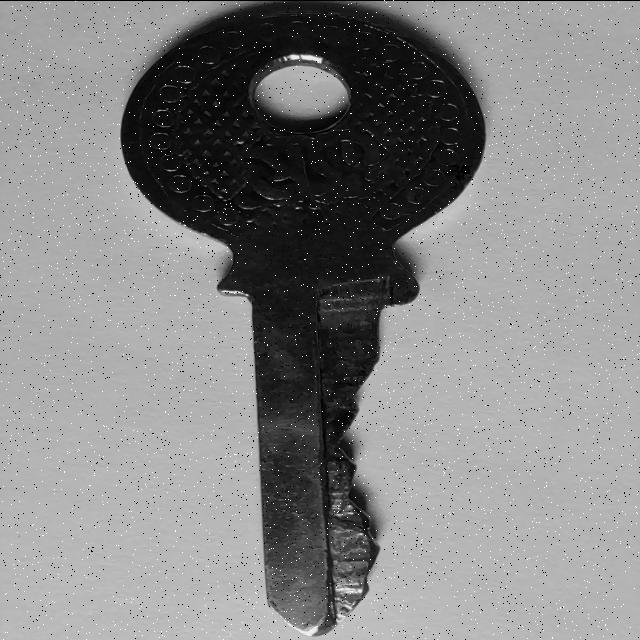key: (121, 5, 485, 636)
